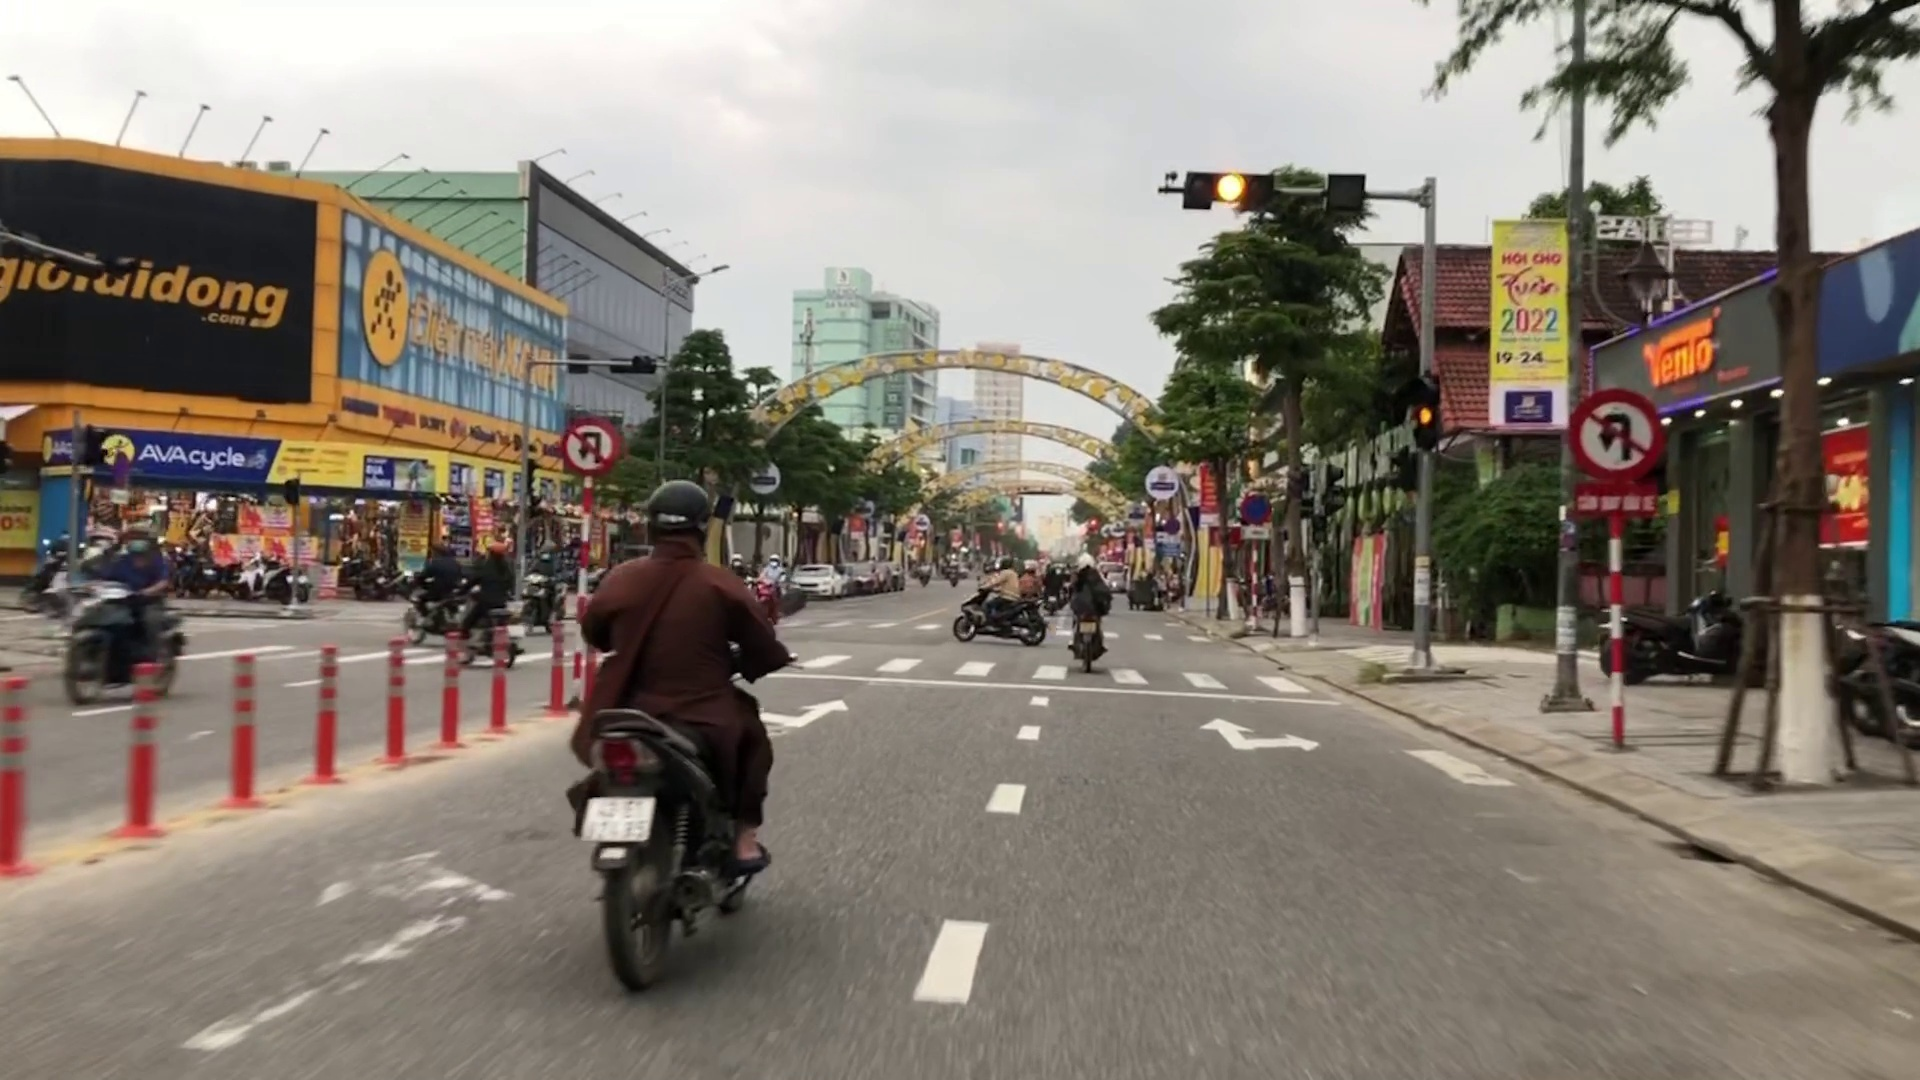Bien khac: (1567, 388, 1665, 480), (563, 419, 618, 476)
Cam do xe: (1240, 491, 1273, 525)
